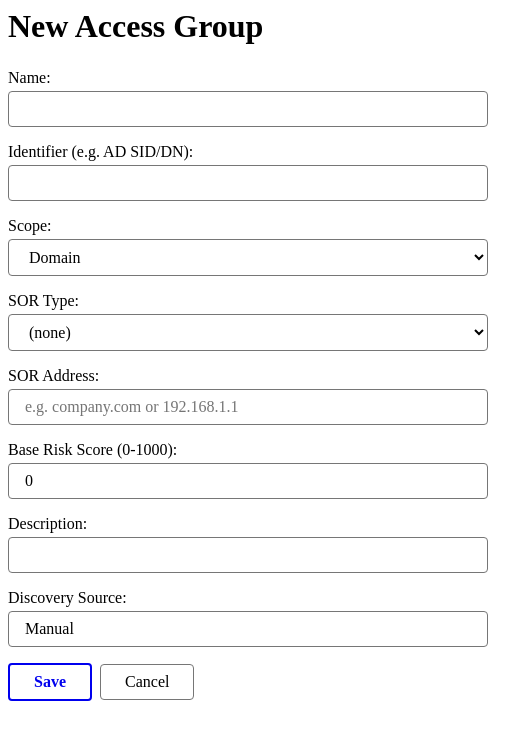
AccessGroupEdit.vue › shows a save error and stays on the page when the save fails
Type "New Group" into the field labelled "Name:".
click(248, 109); type("New Group")  # box [8,91,488,127]
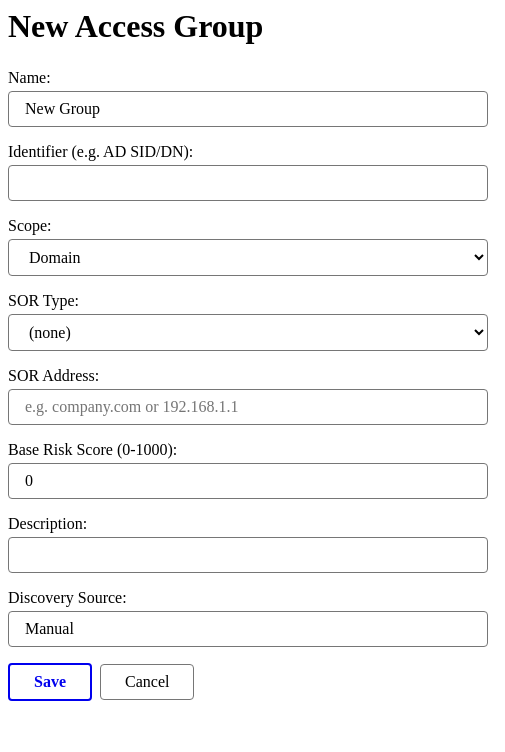
Submit the form
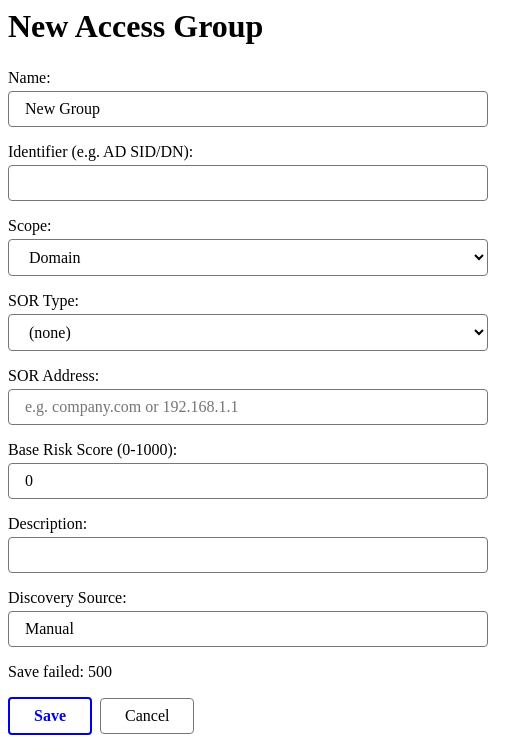
Expected: the message "Save failed: 500" is shown, [8,663,112,680]
